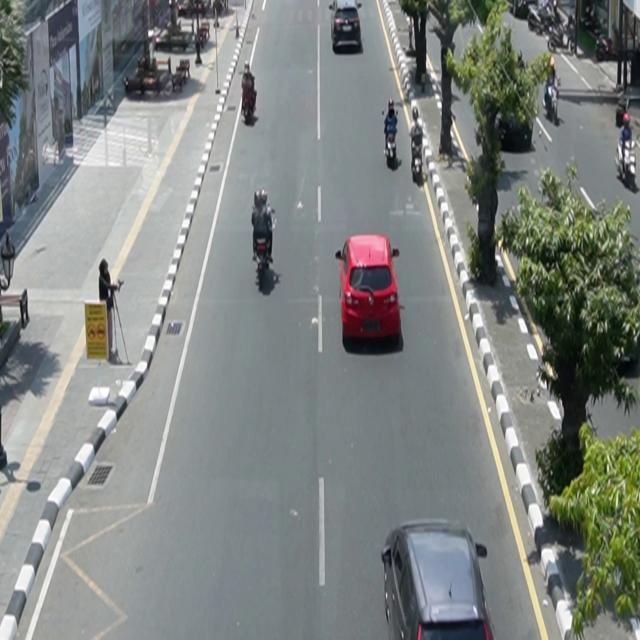car: (382, 520, 496, 640), (336, 234, 402, 347), (330, 1, 363, 52)
